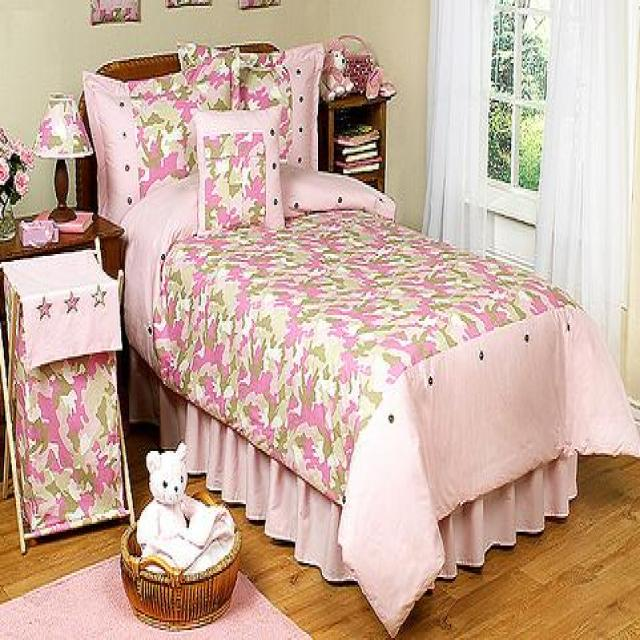bed: (74, 41, 638, 636)
